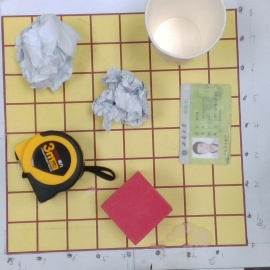card: (177, 83, 233, 166)
cup: (141, 2, 225, 64)
